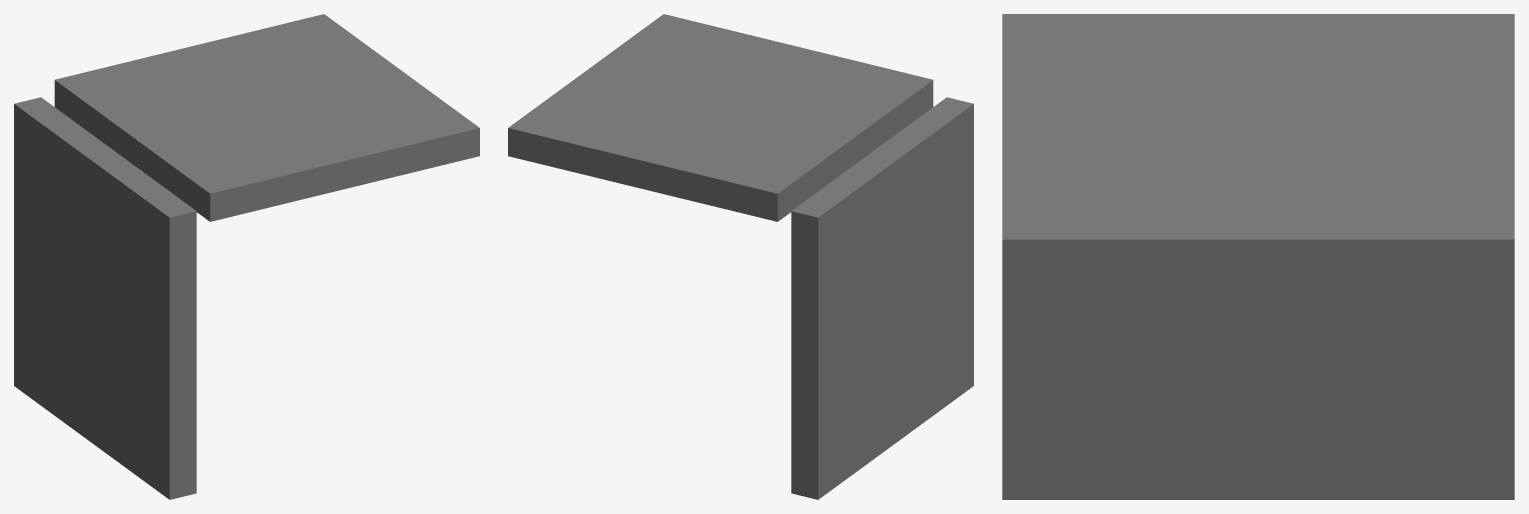
The model's file is У4.1_Кромки.glb.
The picture shows the model from 3 angles, left to right: view 1: azimuth 30°, elevation 25°; view 2: azimuth 150°, elevation 25°; view 3: azimuth 270°, elevation 25°; orthographic projection. The views are drawn at different scales.
Visible parts, largest first — view 1: node_id3; view 2: node_id3; view 3: node_id3.
Part boxes in pixels (x1,y1,x2,y2): node_id3: (14,14,479,499); node_id3: (508,14,973,499); node_id3: (1002,14,1514,499).
Size of the model in its own units: 0.512 by 0.4675 by 0.4452.
Materials: 1 (1 with a texture image).
